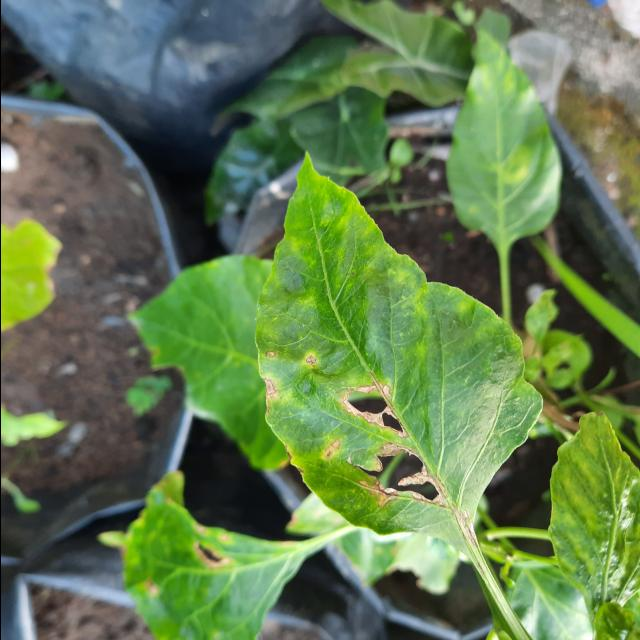bercak_daun: (240, 137, 552, 586)
